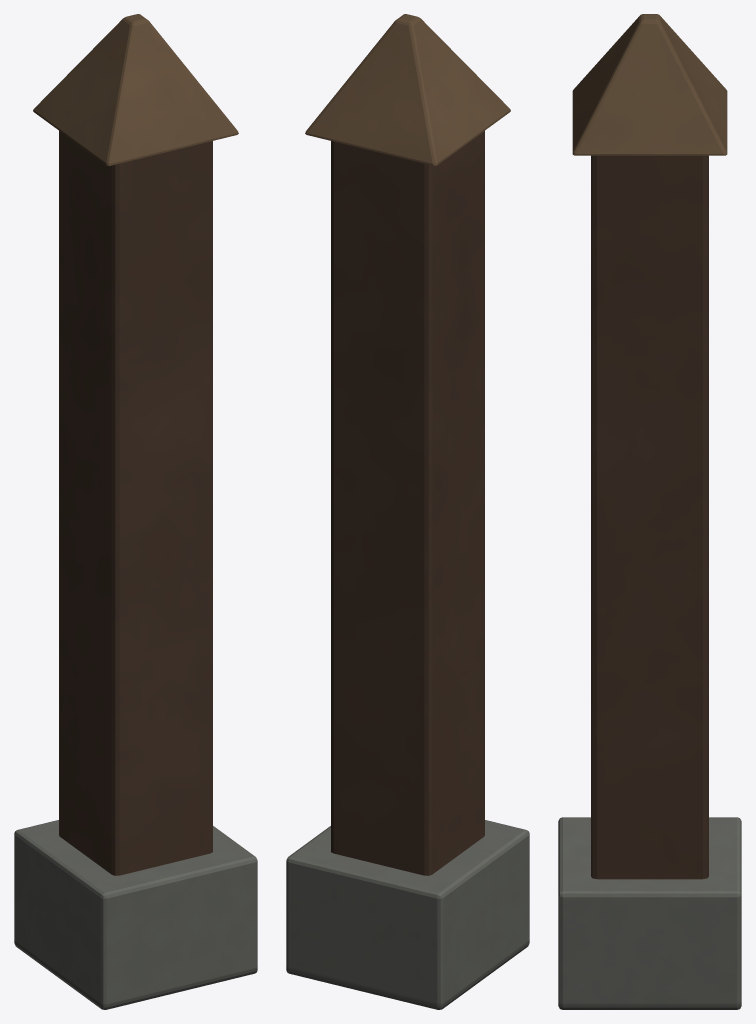
File: Fence_Post.fbx
3 renders of one model, left to right at view 1: azimuth 30°, elevation 25°; view 2: azimuth 150°, elevation 25°; view 3: azimuth 270°, elevation 25°, orthographic.
Visible parts, largest first — view 1: Fence_Post.001; view 2: Fence_Post.001; view 3: Fence_Post.001.
Boxes of the visible parts, bbox=[...] form: Fence_Post.001: bbox=[14, 14, 257, 1009]; Fence_Post.001: bbox=[286, 14, 529, 1009]; Fence_Post.001: bbox=[558, 14, 741, 1009].
Size of the model in its own units: 0.28 by 1.61 by 0.28.
